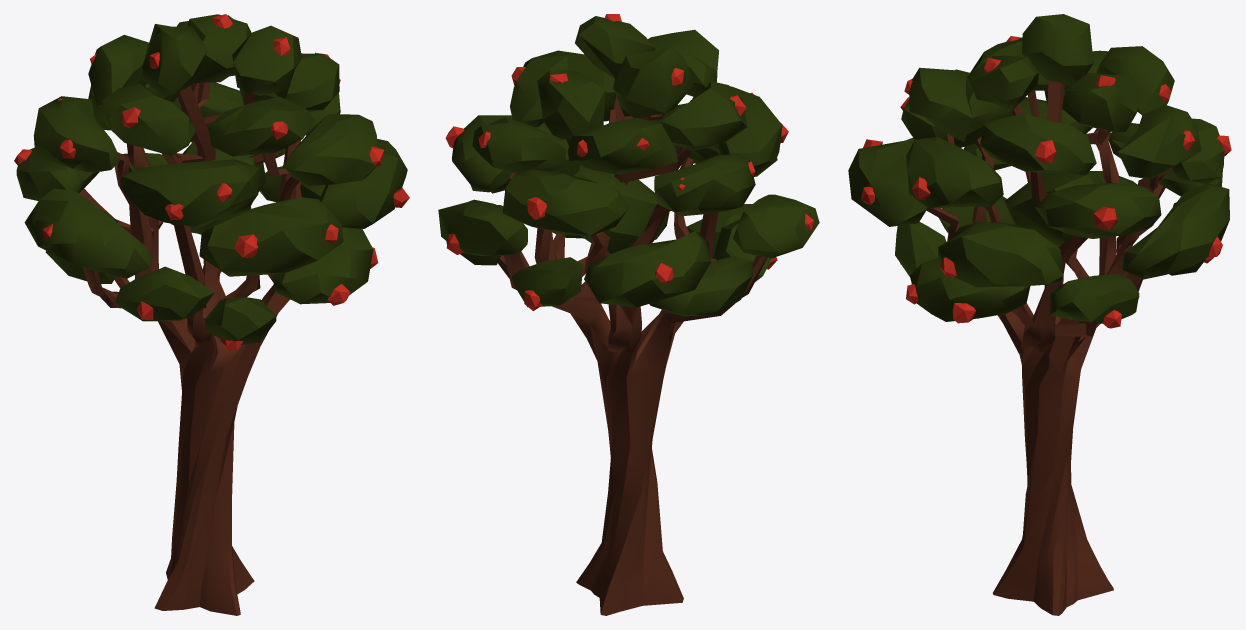
The model's file is Tree_1_High_WF.fbx.
3 views of the same model, side by side, from view 1: azimuth 30°, elevation 25°; view 2: azimuth 150°, elevation 25°; view 3: azimuth 270°, elevation 25° (orthographic). The views are drawn at different scales.
Parts seen in each view (by area): view 1: Tree_1_High_WF; view 2: Tree_1_High_WF; view 3: Tree_1_High_WF.
Part boxes in pixels (x1,y1,x2,y2): Tree_1_High_WF: (14, 14, 409, 615); Tree_1_High_WF: (438, 14, 819, 615); Tree_1_High_WF: (848, 14, 1231, 615).
Bounding box in the file's own units: 161 × 253 × 157.
